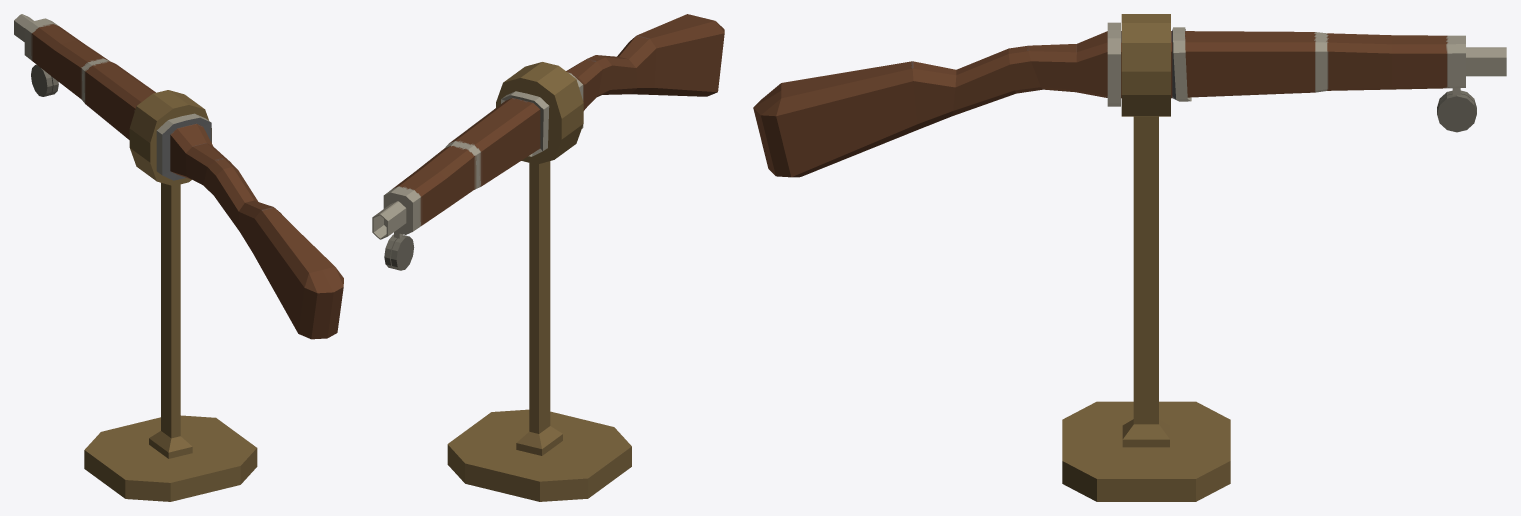
File: HarpoonGunEmpty.fbx
3 views of the same model, side by side, from view 1: azimuth 30°, elevation 25°; view 2: azimuth 150°, elevation 25°; view 3: azimuth 270°, elevation 25° (orthographic). The views are drawn at different scales.
Visible parts, largest first — view 1: Gun, Stand; view 2: Stand, Gun; view 3: Gun, Stand.
Part boxes in pixels (box(x1,y1,x2,y2)): Gun: box(14, 14, 343, 339); Stand: box(84, 90, 257, 501); Stand: box(447, 62, 631, 501); Gun: box(372, 14, 724, 270); Gun: box(753, 22, 1506, 177); Stand: box(1062, 14, 1230, 501).
Bounding box in the file's own units: 153 × 409 × 628.
Materials: 2 (2 with a texture image).
